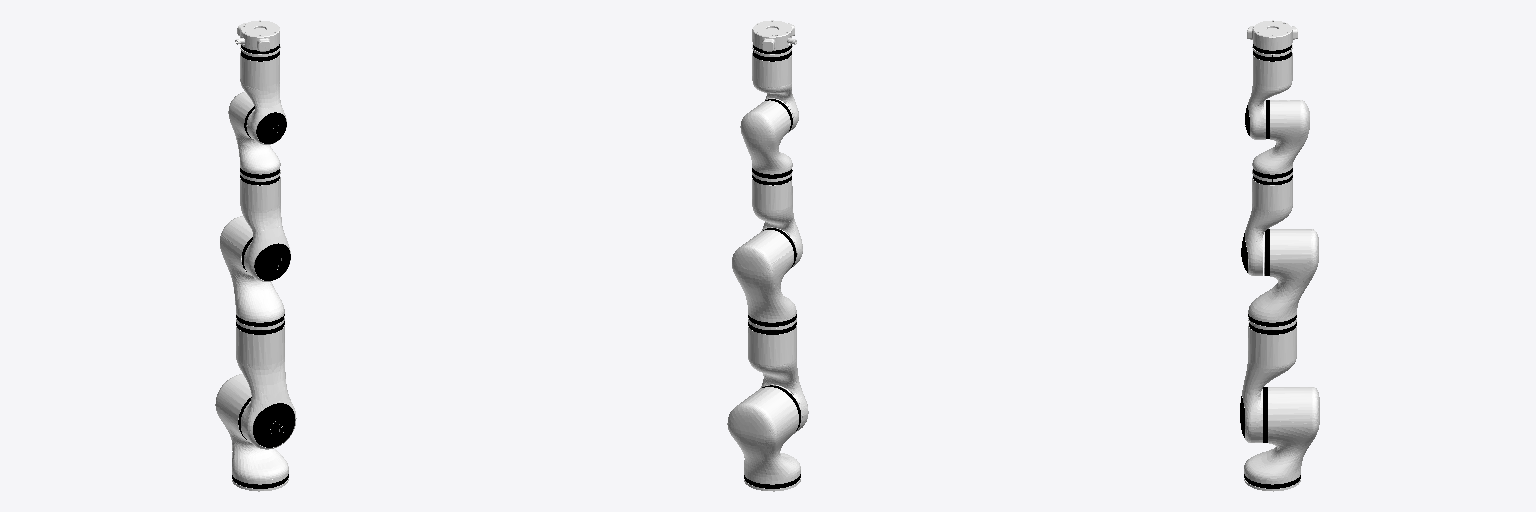
robot.urdf — rm_65_description:
<?xml version='1.0' encoding='UTF-8'?>
<!-- This URDF was automatically created by SolidWorks to URDF Exporter! Originally created by Stephen Brawner (brawner@gmail.com)
     Commit Version: 1.6.0-1-g15f4949  Build Version: 1.6.7594.29634
     For more information, please see http://wiki.ros.org/sw_urdf_exporter-->
<robot name="rm_65_description">
  <link name="base_link">
    <inertial>
      <origin xyz="-0.00049987 -5.2709E-05 0.060019" rpy="0 0 0"/>
      <mass value="1.862"/>
      <inertia ixx="0.0017232" ixy="-3.1058E-06" ixz="3.7924E-05" iyy="0.0017051" iyz="-1.3691E-06" izz="0.00090158"/>
    </inertial>
    <visual>
      <origin rpy="0 0 0" xyz="0 0 0"/>
      <geometry>
        <mesh filename="package://rm_description/meshes/dae/rm65/base_link.dae"/>
      </geometry>
    </visual>
    <collision>
      <origin xyz="0 0 0" rpy="0 0 0"/>
      <geometry>
        <mesh filename="package://rm_description/meshes/RM65/base_link.STL"/>
      </geometry>
    </collision>
  </link>
  <link name="Link1">
    <inertial>
      <origin xyz="0.000941 0.007803 -0.10744" rpy="0 0 0"/>
      <mass value="1.51"/>
      <inertia ixx="0.002662223" ixy="-0.000026849" ixz="-0.000013775" iyy="0.002331685" iyz="-0.000078667" izz="0.001663712"/>
    </inertial>
    <visual>
      <origin
        xyz="0 0 0"
        rpy="0 0 0" />
      <geometry>
        <mesh
          filename="package://rm_description/meshes/dae/rm65/link_1.dae" />
      </geometry>
    </visual>
    <collision>
      <origin xyz="0 0 0" rpy="0 0 0"/>
      <geometry>
        <mesh filename="package://rm_description/meshes/RM65/link1.STL"/>
      </geometry>
    </collision>
  </link>
  <joint name="joint1" type="revolute">
    <origin xyz="0 0 0.2405" rpy="0 0 0"/>
    <parent link="base_link"/>
    <child link="Link1"/>
    <axis xyz="0 0 1"/>
    <limit lower="-3.106" upper="3.106" effort="60" velocity="3.14"/>
  </joint>
  <link name="Link2">
    <inertial>
      <origin xyz="0.183722 0.000103 -0.001665" rpy="0 0 0"/>
      <mass value="1.653"/>
      <inertia ixx="0.001706953" ixy="-0.000006995" ixz="0.001809254" iyy="0.014713776" iyz="0.000006223" izz="0.014239805"/>
    </inertial>
    <visual>
      <origin
        xyz="0 0 0"
        rpy="0 0 0" />
      <geometry>
        <mesh
          filename="package://rm_description/meshes/dae/rm65/link_2.dae" />
      </geometry>
    </visual>
    <collision>
      <origin xyz="0 0 0" rpy="0 0 0"/>
      <geometry>
        <mesh filename="package://rm_description/meshes/RM65/link2.STL"/>
      </geometry>
    </collision>
  </link>
  <joint name="joint2" type="revolute">
    <origin rpy="-1.57079265345464 -1.57079265358979 3.14159265345464" xyz="0 0 0"/>
    <parent link="Link1"/>
    <child link="Link2"/>
    <axis xyz="0 0 1"/>
    <limit lower="-2.2689" upper="2.2689" effort="60" velocity="3.14"/>
  </joint>
  <link name="Link3">
    <inertial>
      <origin xyz="0.000029 -0.090105 0.004039" rpy="0 0 0"/>
      <mass value="0.726"/>
      <inertia ixx="0.001350874" ixy="0.000001069" ixz="-0.000000228" iyy="0.000360021" iyz="-0.000219904" izz="0.001331598"/>
    </inertial>
    <visual>
      <origin
        xyz="0 0 0"
        rpy="0 0 0" />
      <geometry>
        <mesh
          filename="package://rm_description/meshes/dae/rm65/link_3.dae" />
      </geometry>
    </visual>
    <collision>
      <origin xyz="0 0 0" rpy="0 0 0"/>
      <geometry>
        <mesh filename="package://rm_description/meshes/RM65/link3.STL"/>
      </geometry>
    </collision>
  </link>
  <joint name="joint3" type="revolute">
    <origin xyz="0.256 0 0" rpy="0 0 1.5708"/>
    <parent link="Link2"/>
    <child link="Link3"/>
    <axis xyz="0 0 1"/>
    <limit lower="-2.356" upper="2.356" effort="30" velocity="3.14"/>
  </joint>
  <link name="Link4">
    <inertial>
      <origin xyz="0.000007 -0.009486 -0.008041" rpy="0 0 0"/>
      <mass value="0.671"/>
      <inertia ixx="0.000690221" ixy="-0.000000865" ixz="-0.000000692" iyy="0.000552834" iyz="0.000016411" izz="0.000425835"/>
    </inertial>
    <visual>
      <origin
        xyz="0 0 0"
        rpy="0 0 0" />
      <geometry>
        <mesh
          filename="package://rm_description/meshes/dae/rm65/link_4.dae" />
      </geometry>
    </visual>
    <collision>
      <origin xyz="0 0 0" rpy="0 0 0"/>
      <geometry>
        <mesh filename="package://rm_description/meshes/RM65/link4.STL"/>
      </geometry>
    </collision>
  </link>
  <joint name="joint4" type="revolute">
    <origin xyz="0 -0.21 0" rpy="1.5708 0 0"/>
    <parent link="Link3"/>
    <child link="Link4"/>
    <axis xyz="0 0 1"/>
    <limit lower="-3.106" upper="3.106" effort="10" velocity="3.14"/>
  </joint>
  <link name="Link5">
    <inertial>
      <origin xyz="0.000032 -0.083769 0.002326" rpy="0 0 0"/>
      <mass value="0.647"/>
      <inertia ixx="0.000834052" ixy="0.000000952" ixz="-0.000000257" iyy="0.000281767" iyz="-0.000111750" izz="0.000821714"/>
    </inertial>
    <visual>
      <origin
        xyz="0 0 0"
        rpy="0 0 0" />
      <geometry>
        <mesh
          filename="package://rm_description/meshes/dae/rm65/link_5.dae" />
      </geometry>
    </visual>
    <collision>
      <origin xyz="0 0 0" rpy="0 0 0"/>
      <geometry>
        <mesh filename="package://rm_description/meshes/RM65/link5.STL"/>
      </geometry>
    </collision>
  </link>
  <joint name="joint5" type="revolute">
    <origin xyz="0 0 0" rpy="-1.5708 0 0"/>
    <parent link="Link4"/>
    <child link="Link5"/>
    <axis xyz="0 0 1"/>
    <limit lower="-2.234" upper="2.234" effort="10" velocity="3.14"/>
  </joint>
  <link name="Link6">
    <inertial>
      <origin xyz="-0.000569 0.00029 -0.010569" rpy="0 0 0"/>
      <mass value="0.104"/>
      <inertia ixx="3.043E-05" ixy="2.622E-09" ixz="2.199E-08" iyy="3.604E-05" iyz="1.195E-08" izz="5.52E-05"/>
    </inertial>
    <visual>
      <origin
        xyz="0 0 0"
        rpy="0 0 0" />
      <geometry>
        <mesh
          filename="package://rm_description/meshes/dae/rm65/link_6_bi.dae" />
      </geometry>
    </visual>
    <collision>
      <origin xyz="0 0 0" rpy="0 0 0"/>
      <geometry>
        <mesh filename="package://rm_description/meshes/RM65/link6.STL"/>
      </geometry>
    </collision>
  </link>
  <joint name="joint6" type="revolute">
    <origin xyz="0 -0.144 0" rpy="1.5708 0 0"/>
    <parent link="Link5"/>
    <child link="Link6"/>
    <axis xyz="0 0 1"/>
    <limit lower="-6.28" upper="6.28" effort="10" velocity="3.14"/>
  </joint>
</robot>

--- Render facts (derived) ---
Views: 3 orthographic renders of the robot side by side, from view 1: azimuth 30°, elevation 25°; view 2: azimuth 150°, elevation 25°; view 3: azimuth 270°, elevation 25°.
Model rm_65_description with 7 links and 6 joints (6 revolute), rooted at base_link, posed every joint at zero.
Visible links, largest first — view 1: Link2, Link3, Link1, Link5, Link4, Link6; view 2: Link2, Link1, Link4, Link3, Link5, Link6; view 3: Link2, Link1, Link4, Link3, Link5, Link6.
Link boxes in pixels (<box>): Link2: <box>220,216,296,449</box>; Link3: <box>240,171,290,281</box>; Link1: <box>215,374,288,491</box>; Link5: <box>240,50,286,144</box>; Link4: <box>228,92,280,179</box>; Link6: <box>235,20,280,55</box>; Link2: <box>732,227,808,430</box>; Link1: <box>727,384,801,491</box>; Link4: <box>740,98,793,179</box>; Link3: <box>752,173,802,266</box>; Link5: <box>752,50,798,132</box>; Link6: <box>752,20,796,55</box>; Link2: <box>1240,229,1318,442</box>; Link1: <box>1244,387,1319,491</box>; Link4: <box>1252,100,1309,179</box>; Link3: <box>1241,172,1292,275</box>; Link5: <box>1245,50,1292,139</box>; Link6: <box>1247,20,1297,55</box>.
Size in the robot's own frame: 0.082 by 0.115 by 0.712 metres.
6 mesh visuals loaded from 7 distinct referenced files (6 Collada DAE); not drawn: 1 (reference not matched to a file when rendering).
